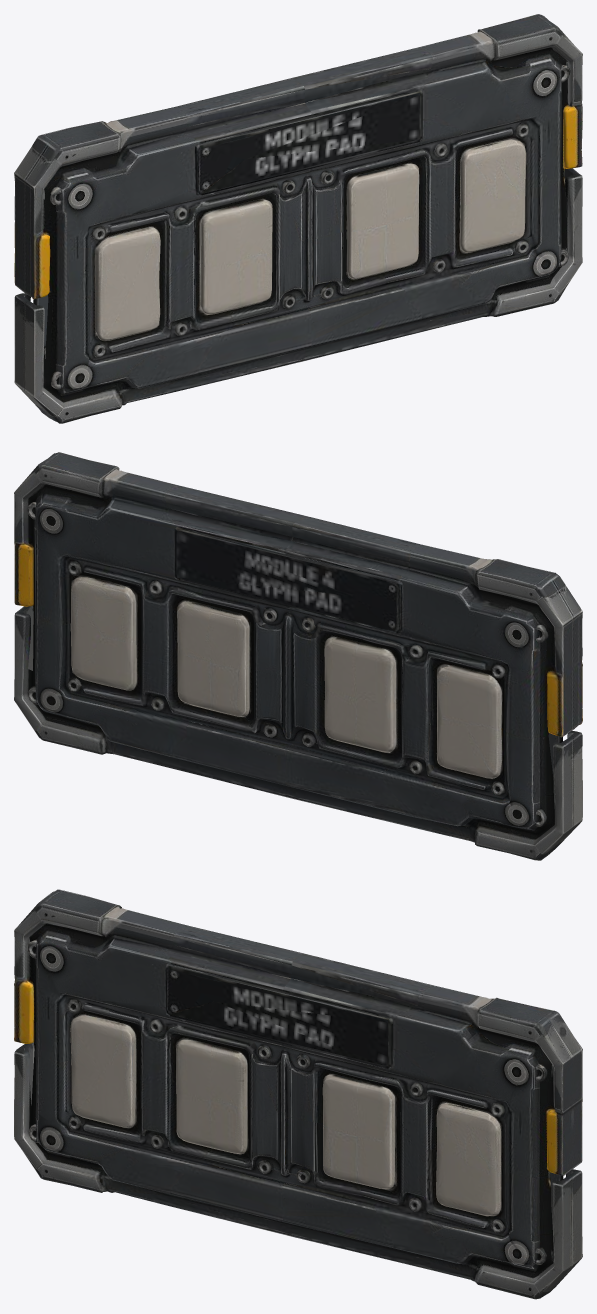
The model's file is GlyphBox.glb.
3 views of the same model, one above another, from view 1: azimuth 30°, elevation 25°; view 2: azimuth 150°, elevation 25°; view 3: azimuth 330°, elevation 25° (orthographic).
Size of the model in its own units: 1 by 0.4824 by 0.1003.
1 material, 1 textured.
